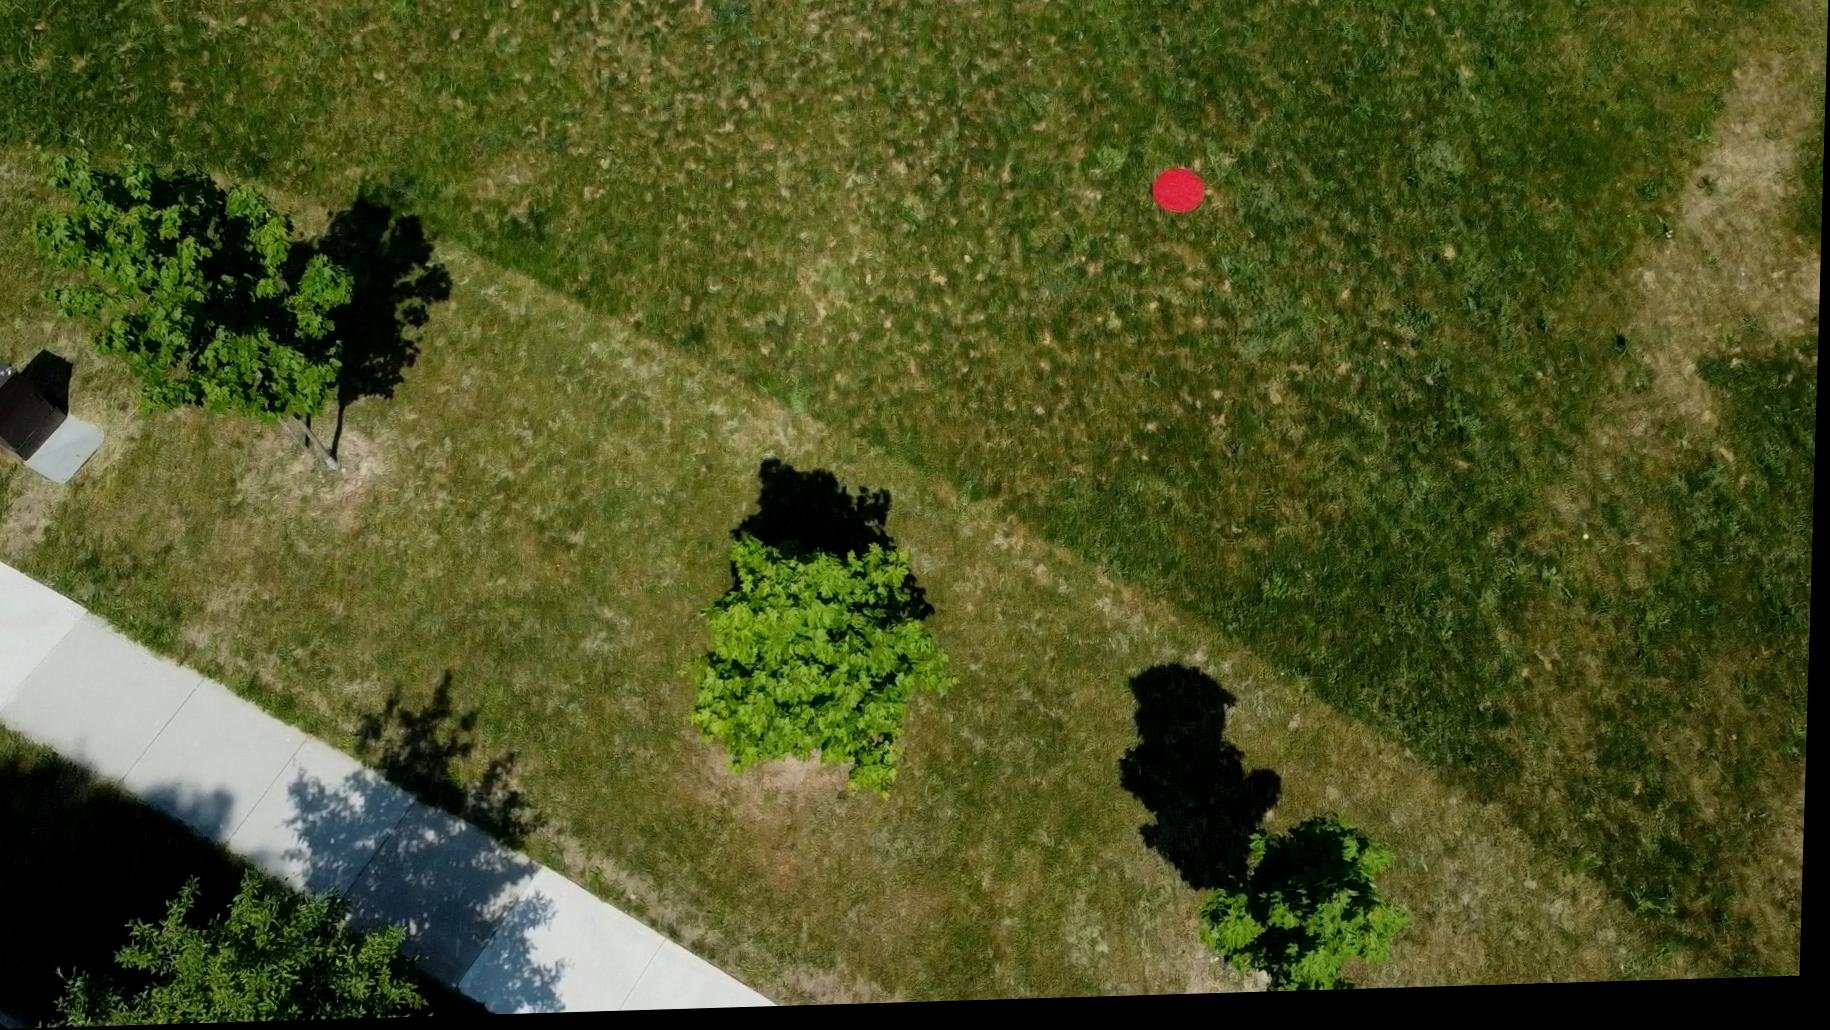Red: (1150, 174, 1210, 225)
